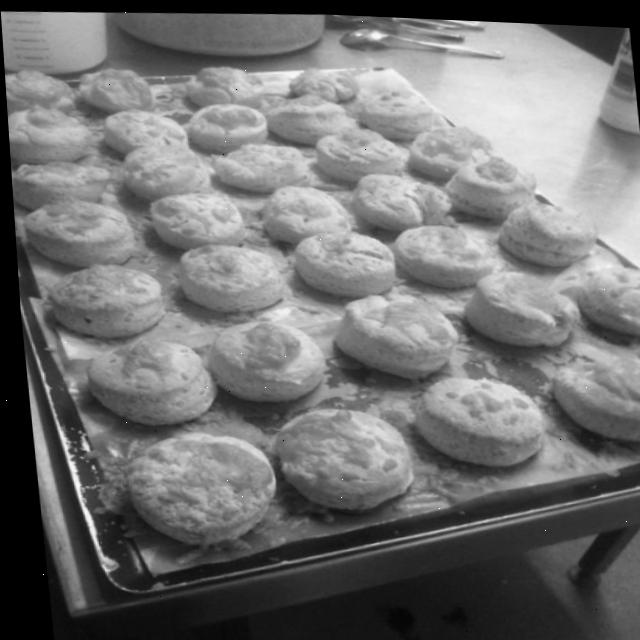面包点心: (1, 19, 640, 595)
